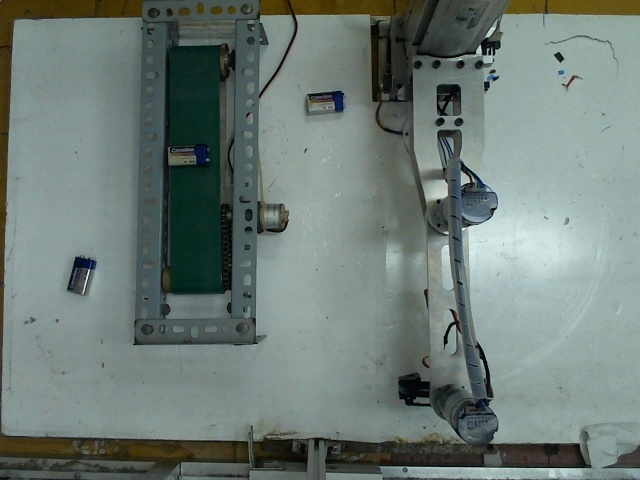battery: (302, 84, 349, 122), (62, 255, 100, 296), (164, 140, 215, 170)
